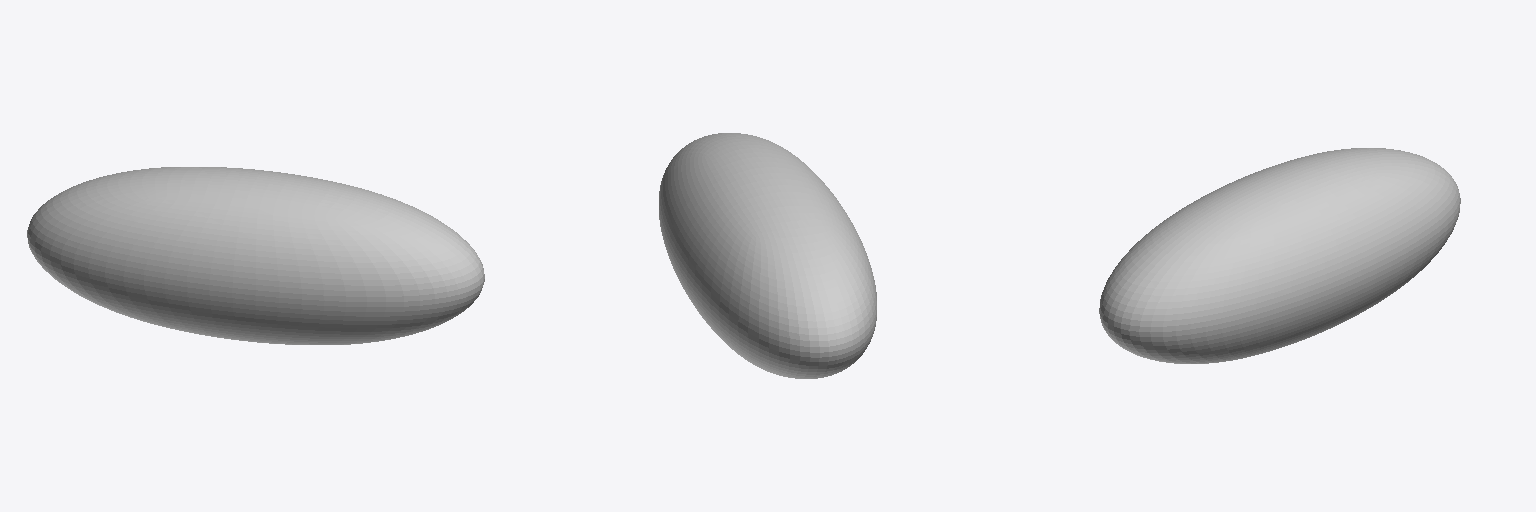
File: nudo3-1.obj
The picture shows the model from 3 angles: view 1: azimuth 30°, elevation 25°; view 2: azimuth 150°, elevation 25°; view 3: azimuth 270°, elevation 25°; orthographic projection.
Parts seen in each view (by area): view 1: nudo3_1_Mesh; view 2: nudo3_1_Mesh; view 3: nudo3_1_Mesh.
Part boxes in pixels (bbox=[...]): nudo3_1_Mesh: bbox=[27, 167, 484, 344]; nudo3_1_Mesh: bbox=[659, 133, 876, 378]; nudo3_1_Mesh: bbox=[1099, 148, 1460, 363].
Bounding box in the file's own units: 0.8203 × 0.3825 × 0.8203.